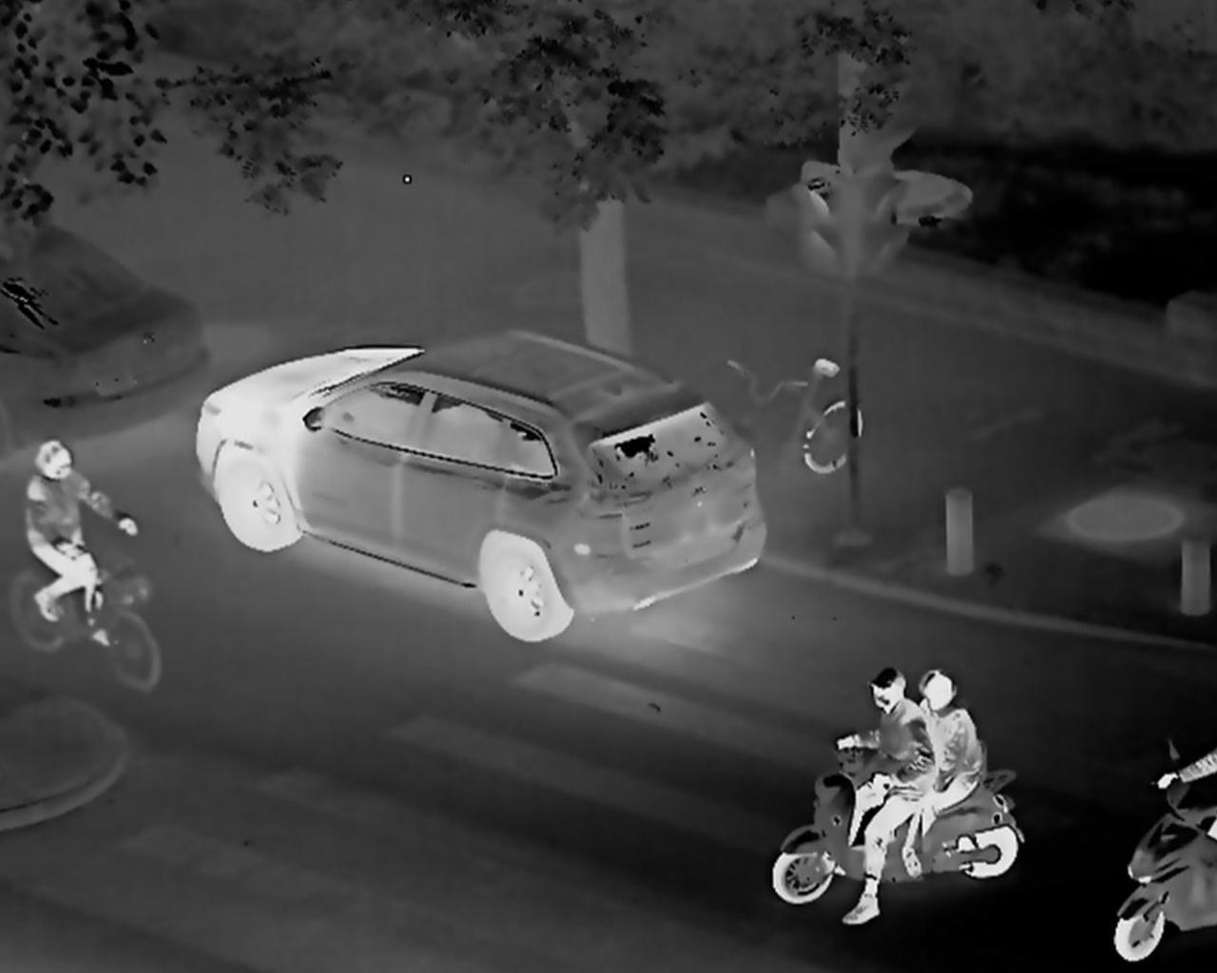person: (18, 443, 140, 658), (834, 666, 935, 919), (898, 668, 976, 880)
